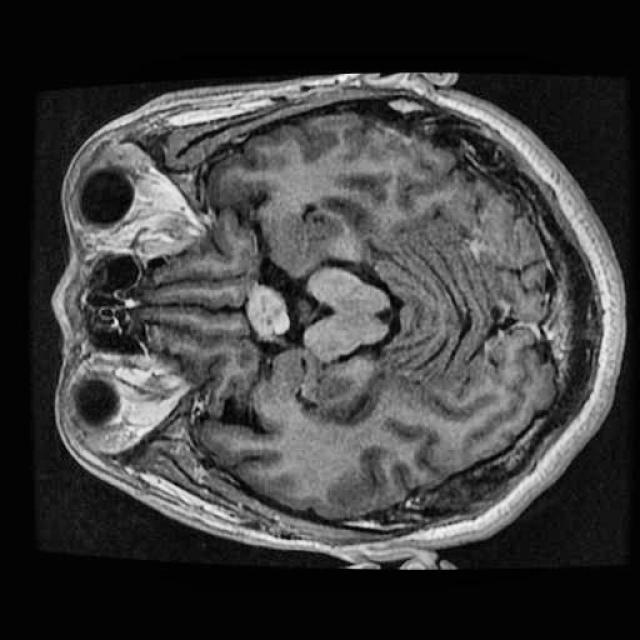Tumor: (228, 265, 302, 354)
